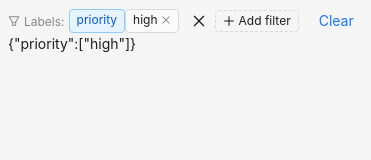
Test: LabelFilterStrip › removing the last value of a key removes the key group
This screenshot has width=371, height=160.
Click the picture named "Close".
click(166, 20)  # box [161,15,171,25]
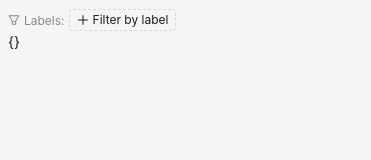
Result: the element with test id "label-filter-group-priority" is gone
Result: the text with test id "json" reads "{}" at [8,33,20,50]
